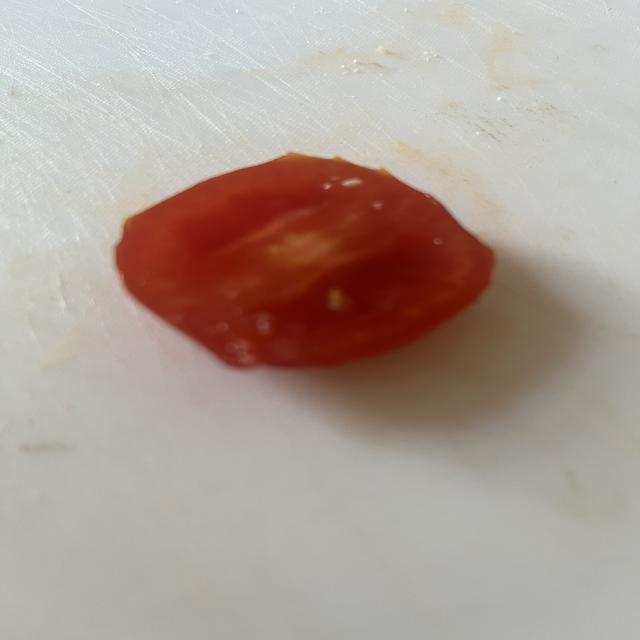sliced_tomato: (117, 154, 493, 368)
